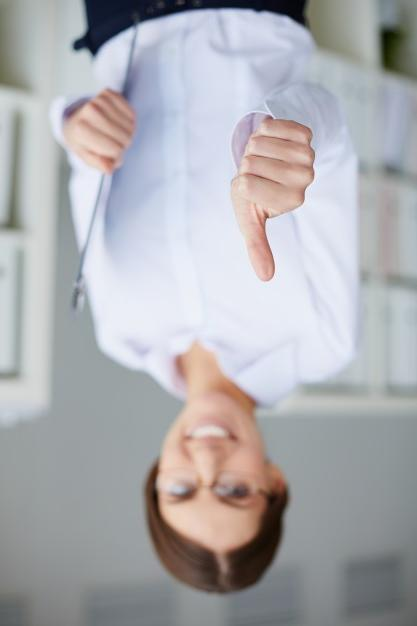thumbsdown: (235, 118, 316, 282)
